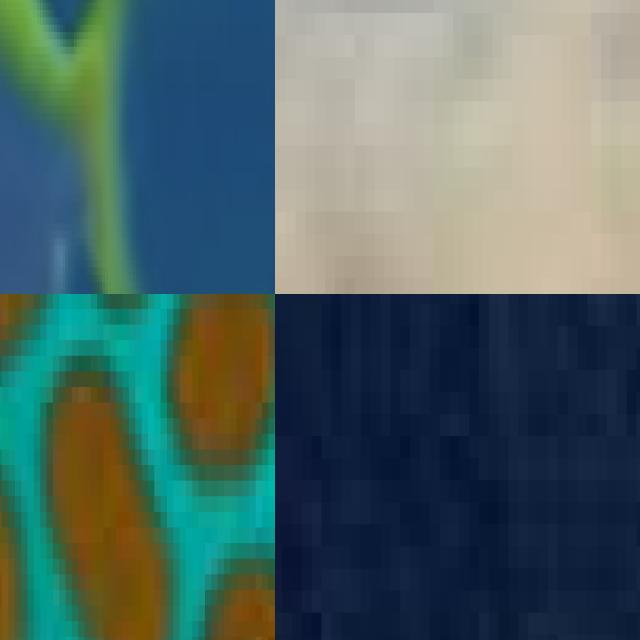fish: (0, 0, 275, 294), (275, 294, 430, 640)
